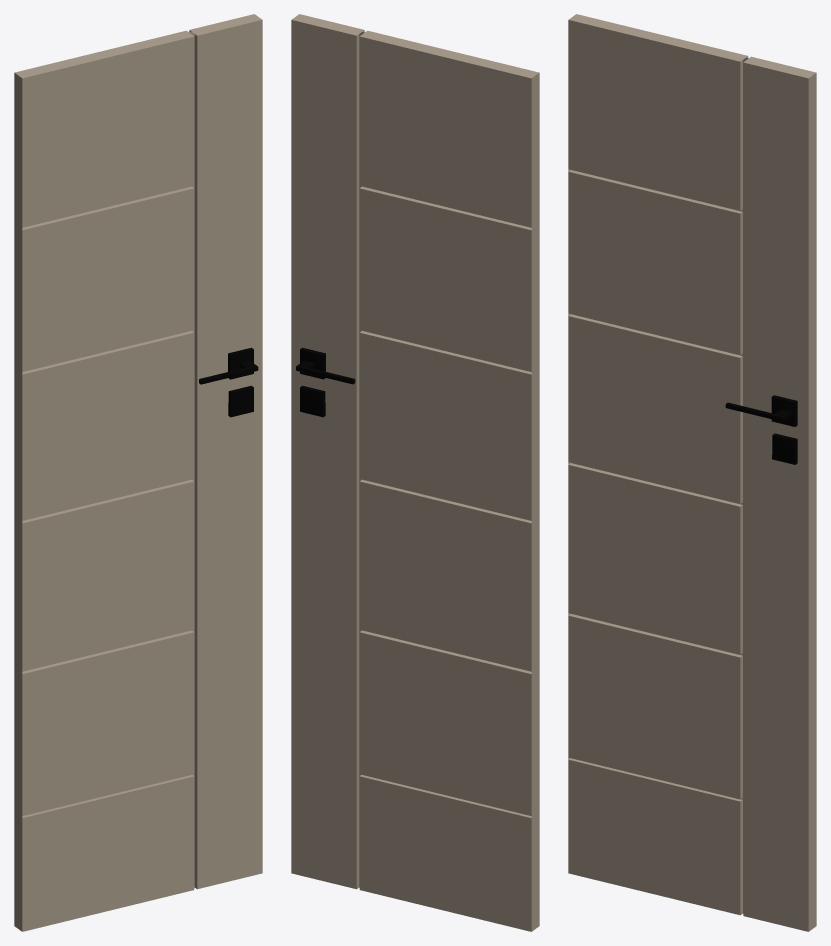
The model's file is SC_3_half_door.glb.
The picture shows the model from 3 angles, left to right: view 1: azimuth 30°, elevation 25°; view 2: azimuth 150°, elevation 25°; view 3: azimuth 330°, elevation 25°; orthographic projection.
Visible parts, largest first — view 1: SC_3__half_door_; view 2: SC_3__half_door_; view 3: SC_3__half_door_.
Part boxes in pixels (x1=…): SC_3__half_door_: x1=14, y1=14, x2=262, y2=931; SC_3__half_door_: x1=291, y1=14, x2=539, y2=931; SC_3__half_door_: x1=568, y1=14, x2=816, y2=931.
Size of the model in its own units: 0.5169 by 1.76 by 0.1089.
1 material, 1 textured.
